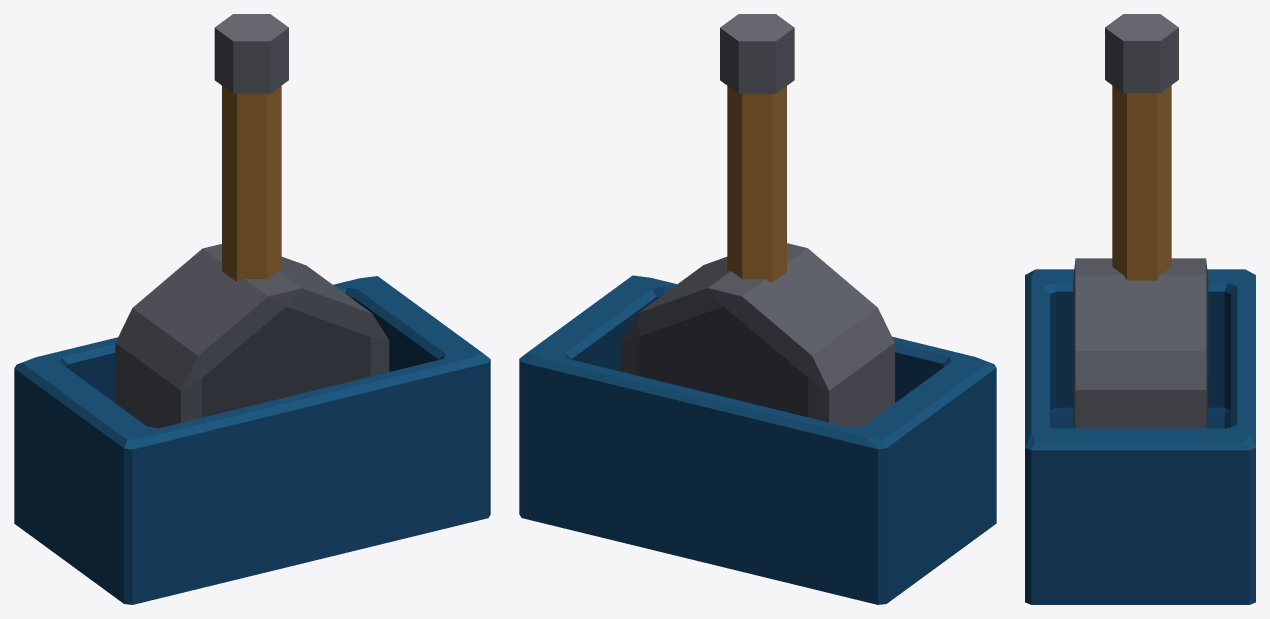
Rendered from lever.fbx.
The picture shows the model from 3 angles, left to right: view 1: azimuth 30°, elevation 25°; view 2: azimuth 150°, elevation 25°; view 3: azimuth 270°, elevation 25°; orthographic projection.
Visible parts, largest first — view 1: Cube.008, Cylinder.008; view 2: Cube.008, Cylinder.008; view 3: Cube.008, Cylinder.008.
Part boxes in pixels (box(x1,y1,x2,y2)): Cube.008: box(14, 276, 490, 604); Cylinder.008: box(115, 14, 389, 428); Cube.008: box(519, 275, 996, 604); Cylinder.008: box(620, 14, 894, 427); Cube.008: box(1025, 269, 1255, 604); Cylinder.008: box(1073, 14, 1208, 428).
Size of the model in its own units: 43.32 by 55.45 by 23.75.
